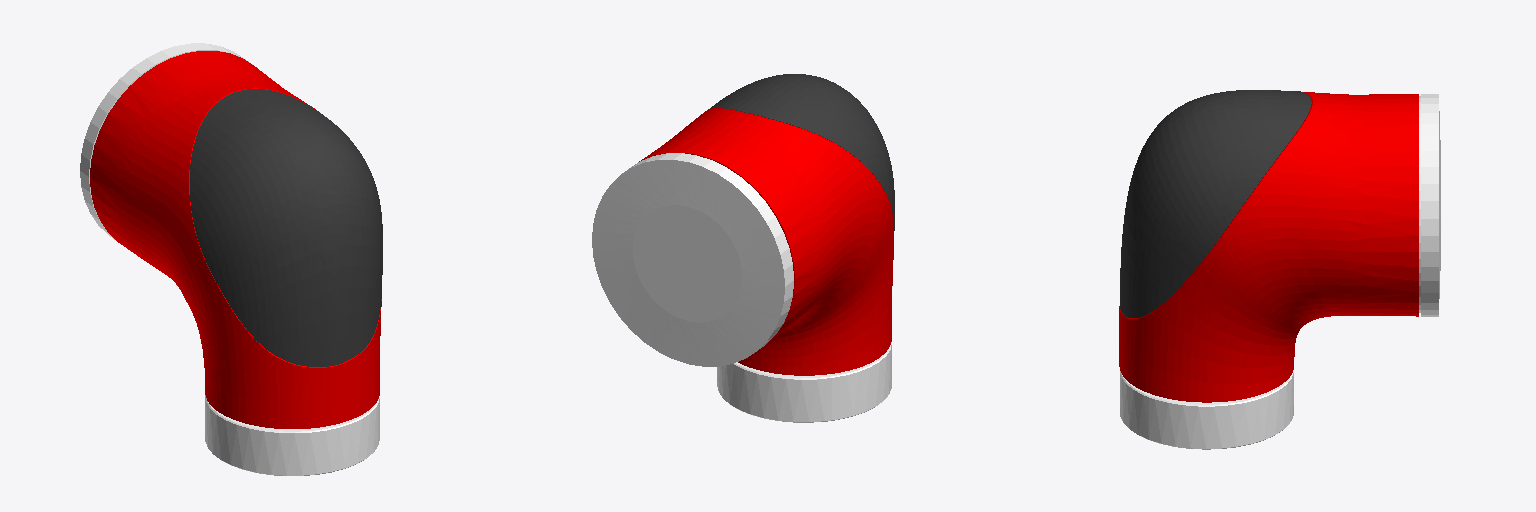
The picture shows the model from 3 angles: view 1: azimuth 30°, elevation 25°; view 2: azimuth 150°, elevation 25°; view 3: azimuth 270°, elevation 25°; orthographic projection.
Parts seen in each view (by area): view 1: _3DGeom_24_geo_2.001, _3DGeom_23_geo_1.001, _3DGeom_22_geo_0.001; view 2: _3DGeom_22_geo_0.001, _3DGeom_23_geo_1.001, _3DGeom_24_geo_2.001; view 3: _3DGeom_23_geo_1.001, _3DGeom_24_geo_2.001, _3DGeom_22_geo_0.001.
Boxes of the visible parts, <box> form: _3DGeom_24_geo_2.001: <box>190,89,382,366</box>; _3DGeom_23_geo_1.001: <box>90,51,381,428</box>; _3DGeom_22_geo_0.001: <box>80,43,379,475</box>; _3DGeom_22_geo_0.001: <box>592,153,891,422</box>; _3DGeom_23_geo_1.001: <box>639,108,893,375</box>; _3DGeom_24_geo_2.001: <box>710,74,894,230</box>; _3DGeom_23_geo_1.001: <box>1119,91,1418,402</box>; _3DGeom_24_geo_2.001: <box>1120,90,1311,317</box>; _3DGeom_22_geo_0.001: <box>1120,94,1440,449</box>.
Size of the model in its own units: 0.136 by 0.2115 by 0.1958.